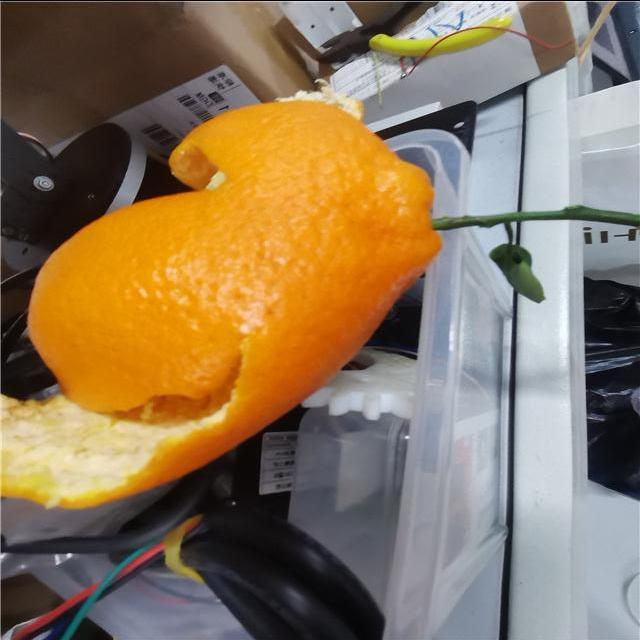orange peel: (0, 99, 444, 508)
